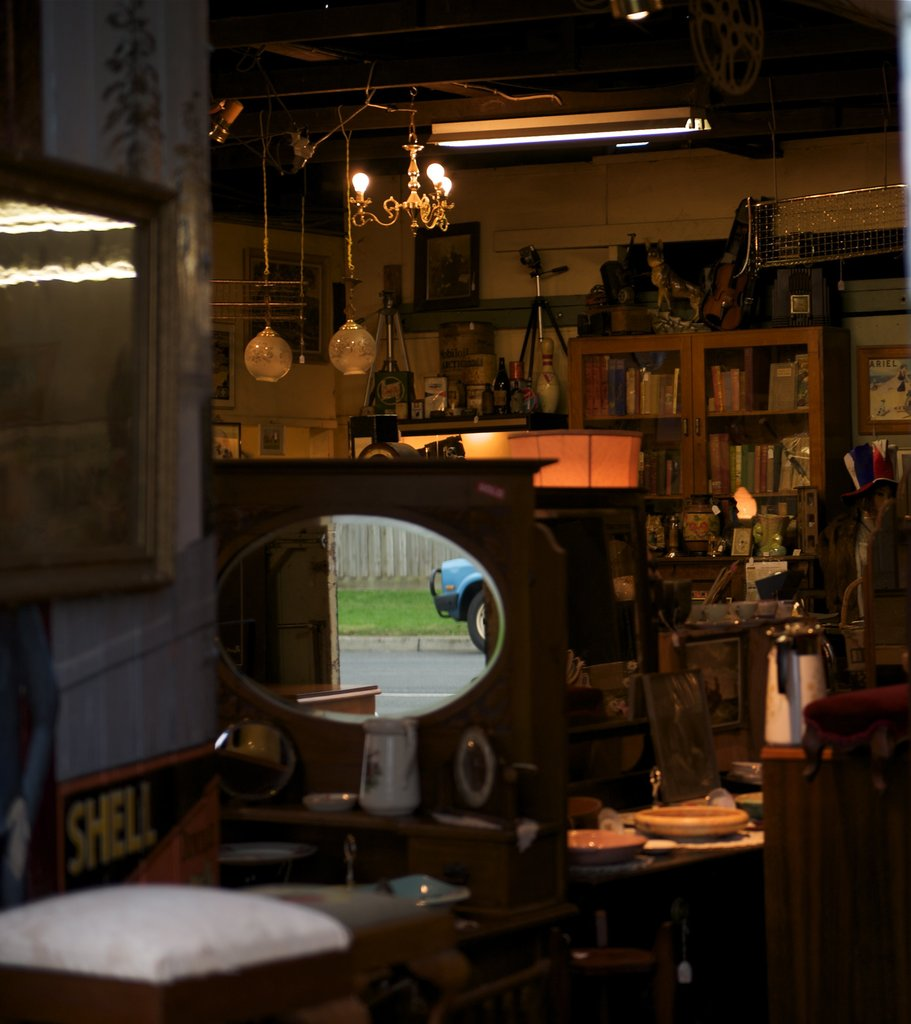Wheel: (468, 595, 487, 654)
